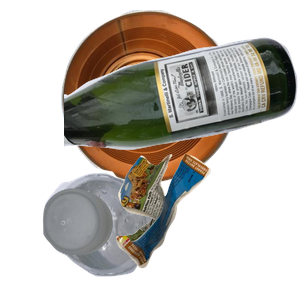glass: (64, 35, 300, 181)
metal: (58, 10, 289, 186)
plastic: (40, 170, 187, 300)
trash: (114, 151, 300, 300)
